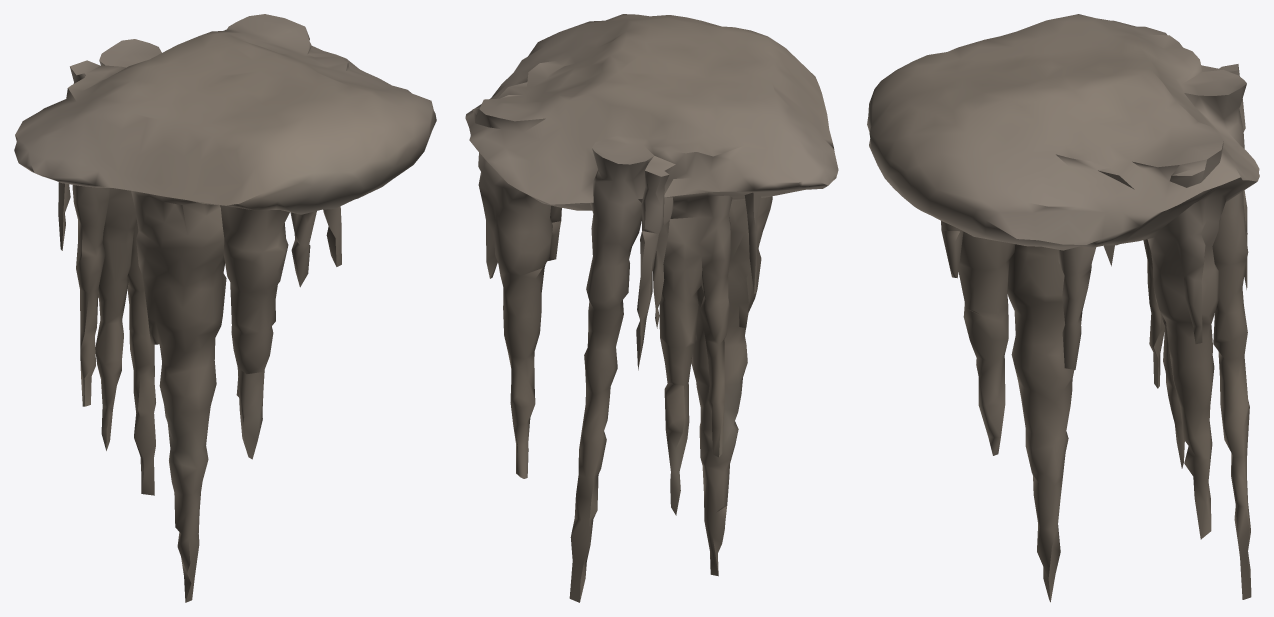
The model's file is stalactite_cluster_a.glb.
The picture shows the model from 3 angles, left to right: view 1: azimuth 30°, elevation 25°; view 2: azimuth 150°, elevation 25°; view 3: azimuth 270°, elevation 25°; orthographic projection. The views are drawn at different scales.
Visible parts, largest first — view 1: stalactite_cluster_a; view 2: stalactite_cluster_a; view 3: stalactite_cluster_a.
Part boxes in pixels (bbox=[...]): stalactite_cluster_a: bbox=[14, 14, 436, 602]; stalactite_cluster_a: bbox=[465, 14, 838, 602]; stalactite_cluster_a: bbox=[867, 14, 1259, 602].
Bounding box in the file's own units: 1.06 × 1.45 × 0.912.
